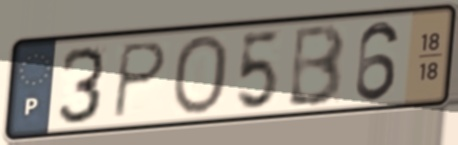3: (57, 43, 109, 126)
5: (233, 27, 286, 112)
6: (352, 17, 401, 104)
B: (284, 20, 348, 110)
O: (169, 32, 231, 118)
P: (108, 39, 171, 123)
